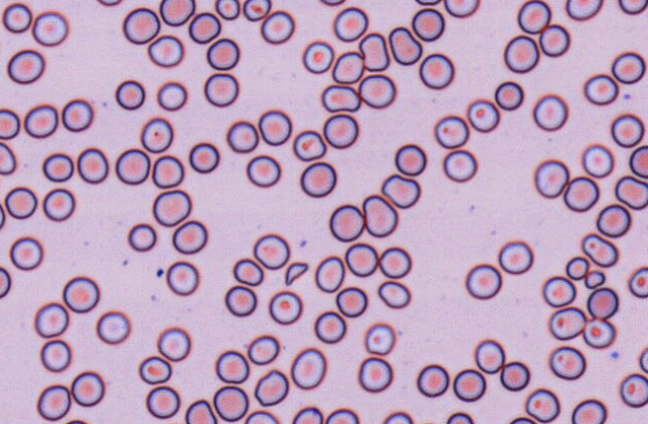PLT: (608, 350, 620, 360), (155, 267, 165, 277)
RBC: (362, 194, 398, 237), (290, 347, 326, 389), (152, 189, 191, 226), (62, 275, 99, 313), (122, 7, 160, 44), (533, 159, 569, 198), (503, 34, 539, 73), (532, 93, 568, 131), (381, 173, 420, 208), (563, 175, 599, 212), (31, 10, 68, 46), (548, 345, 586, 380), (358, 73, 396, 108), (388, 26, 422, 65), (212, 385, 248, 421), (300, 161, 336, 197), (253, 233, 289, 269), (465, 263, 501, 299), (36, 384, 71, 421), (581, 232, 618, 267), (329, 204, 364, 241), (7, 49, 44, 84), (419, 52, 454, 89), (548, 306, 586, 340), (357, 356, 392, 392), (115, 148, 150, 184), (322, 113, 358, 148), (156, 326, 191, 361), (333, 6, 368, 41), (203, 72, 238, 107), (70, 370, 104, 406), (524, 388, 560, 422), (358, 32, 389, 71), (145, 385, 180, 419), (95, 310, 130, 344), (34, 302, 68, 337), (172, 220, 207, 254), (165, 260, 199, 295), (596, 203, 631, 237), (344, 242, 378, 277), (498, 240, 533, 274), (23, 104, 58, 138), (147, 34, 183, 67), (258, 109, 291, 145), (433, 115, 469, 148), (614, 175, 648, 209), (268, 290, 302, 324), (9, 236, 43, 270), (260, 10, 294, 44), (517, 0, 551, 34), (610, 113, 644, 147), (581, 143, 614, 178), (140, 117, 173, 152), (442, 149, 477, 182), (76, 147, 108, 183), (314, 255, 345, 292), (215, 350, 249, 383), (416, 363, 449, 397), (331, 50, 364, 84), (411, 7, 444, 41), (42, 187, 75, 221), (246, 154, 280, 187), (611, 51, 645, 84), (466, 98, 499, 132), (583, 73, 618, 105), (321, 84, 360, 112), (4, 186, 37, 219), (452, 368, 485, 401), (206, 37, 239, 70), (542, 275, 576, 307), (152, 154, 184, 188), (292, 129, 326, 161), (61, 98, 93, 132), (314, 310, 346, 343), (188, 11, 221, 43), (363, 322, 395, 355), (378, 246, 411, 278), (302, 40, 334, 73), (394, 143, 426, 176), (226, 120, 258, 153), (539, 23, 570, 57), (587, 287, 618, 320), (40, 339, 71, 372), (474, 339, 504, 373), (247, 334, 279, 365), (335, 286, 367, 317), (224, 285, 256, 316), (582, 318, 615, 348), (619, 373, 647, 408), (188, 142, 219, 173), (138, 355, 171, 384), (159, 0, 195, 26), (2, 2, 32, 33), (42, 152, 73, 182), (156, 81, 187, 111), (115, 79, 145, 110), (377, 280, 410, 308), (232, 257, 263, 286), (571, 398, 606, 423), (500, 361, 529, 391), (127, 222, 156, 251), (494, 81, 523, 110), (184, 399, 216, 423), (565, 0, 603, 20), (443, 0, 480, 17), (0, 108, 20, 139), (629, 144, 647, 178), (242, 0, 271, 21), (628, 266, 647, 298), (565, 255, 589, 280), (291, 406, 323, 423), (0, 141, 16, 174), (324, 408, 359, 423), (214, 0, 239, 20), (244, 409, 279, 423), (618, 0, 647, 14), (382, 410, 413, 423), (0, 266, 11, 298), (446, 411, 473, 423), (639, 346, 648, 373), (508, 416, 536, 423), (318, 0, 346, 6), (95, 0, 123, 6), (63, 418, 89, 424), (0, 202, 5, 229), (414, 0, 441, 5)
Schistocyte: (255, 369, 288, 406), (286, 263, 308, 286), (585, 270, 606, 290)
